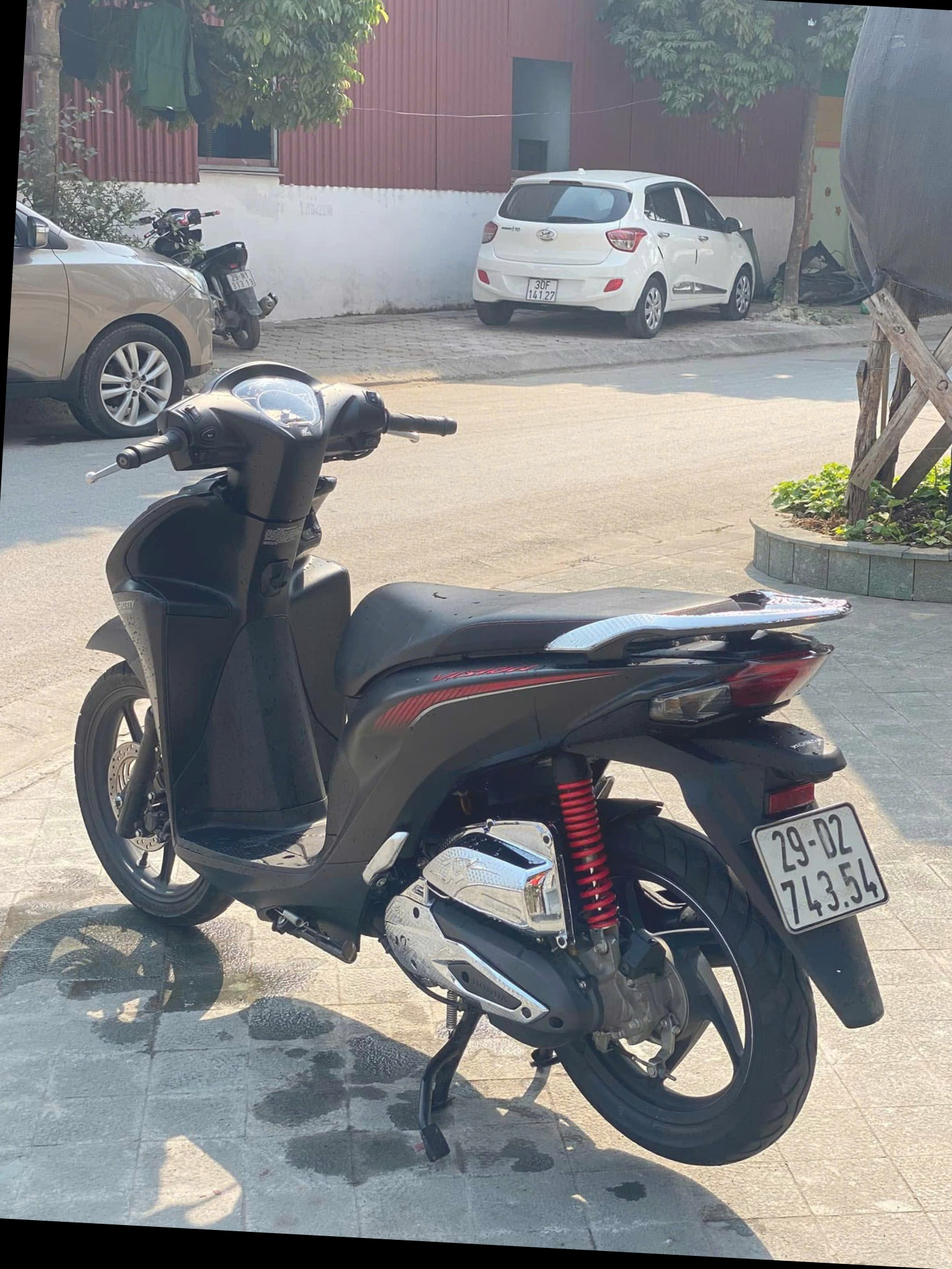Bien-so: (757, 753, 915, 904)
